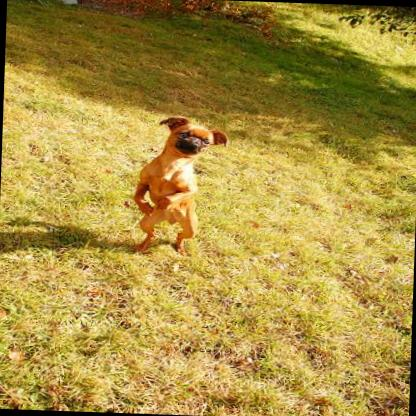Brabancon_griffon: (126, 110, 232, 256)
